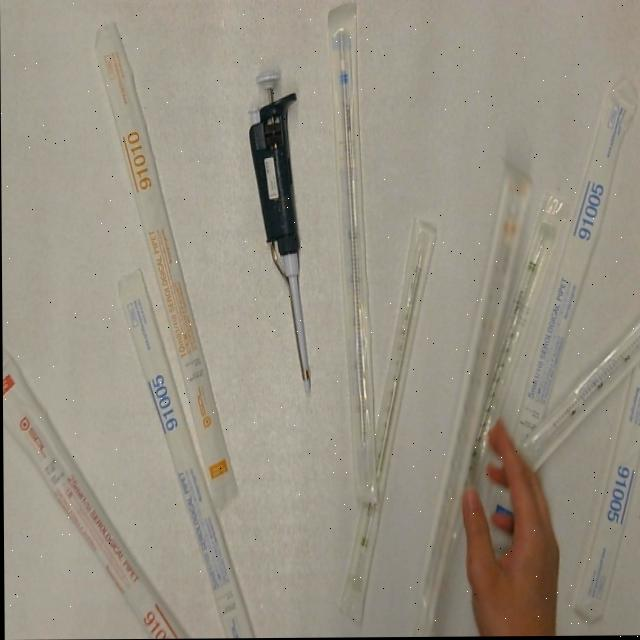Serelogical Pipet 10 mL: (92, 19, 239, 511), (413, 156, 540, 610)
Serelogical Pipet 2 mL: (412, 192, 575, 638), (332, 214, 442, 627)
Serelogical Pipet 25 mL: (2, 348, 192, 640)
Serelogical Pipet 5 mL: (489, 80, 639, 550), (114, 269, 254, 639), (327, 3, 379, 506), (516, 313, 640, 477), (567, 357, 640, 624)
Single Channel Pipettor: (243, 64, 316, 400)
